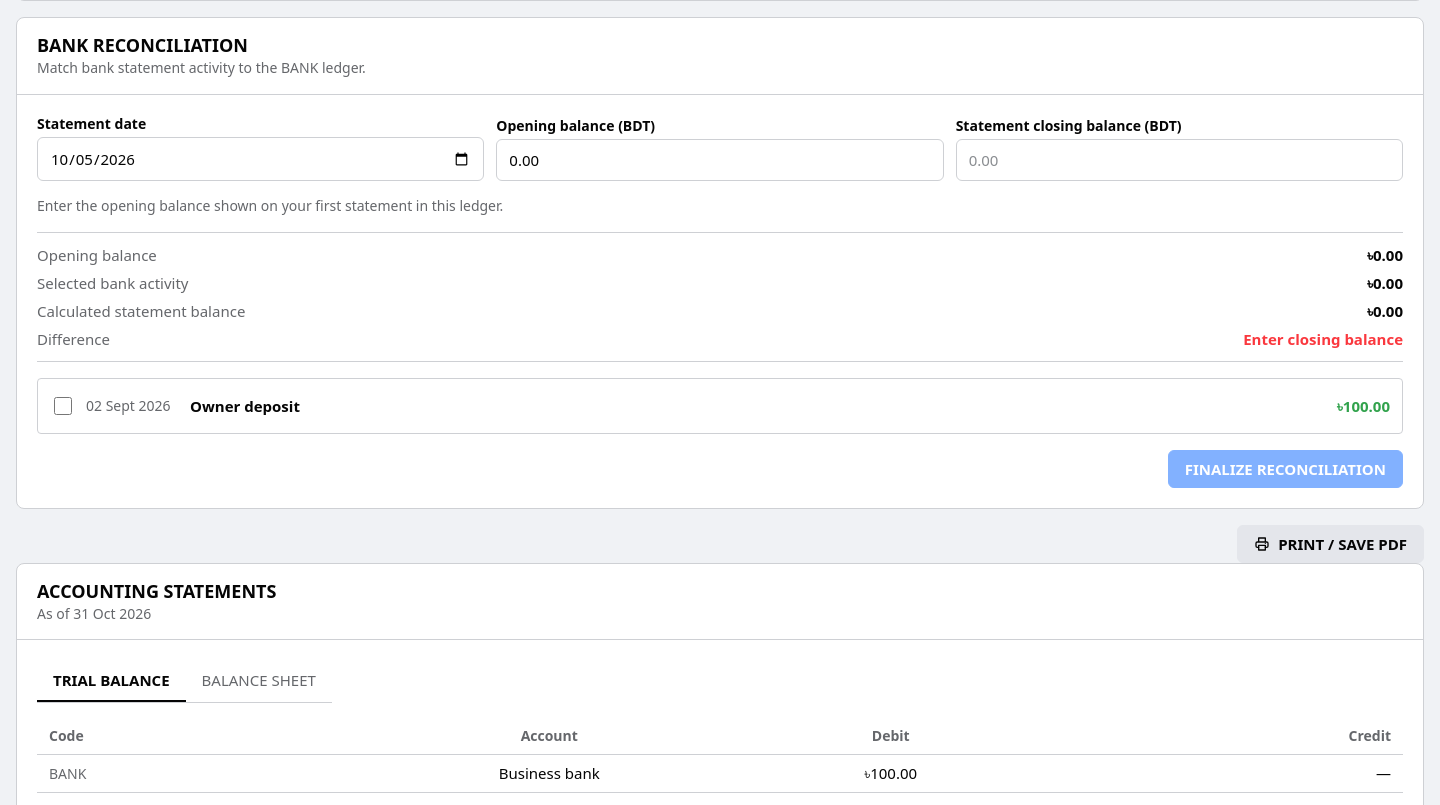
Test case: AccountsPage › finalizes a statement after selected bank activity matches the closing balance
This screenshot has width=1440, height=805.
(page scrolled)
Click the checkbox labelled "02 Sept 2026 Owner deposit ৳100.00" at {"x": 63, "y": 406}, box x1=54 y1=397 x2=72 y2=415
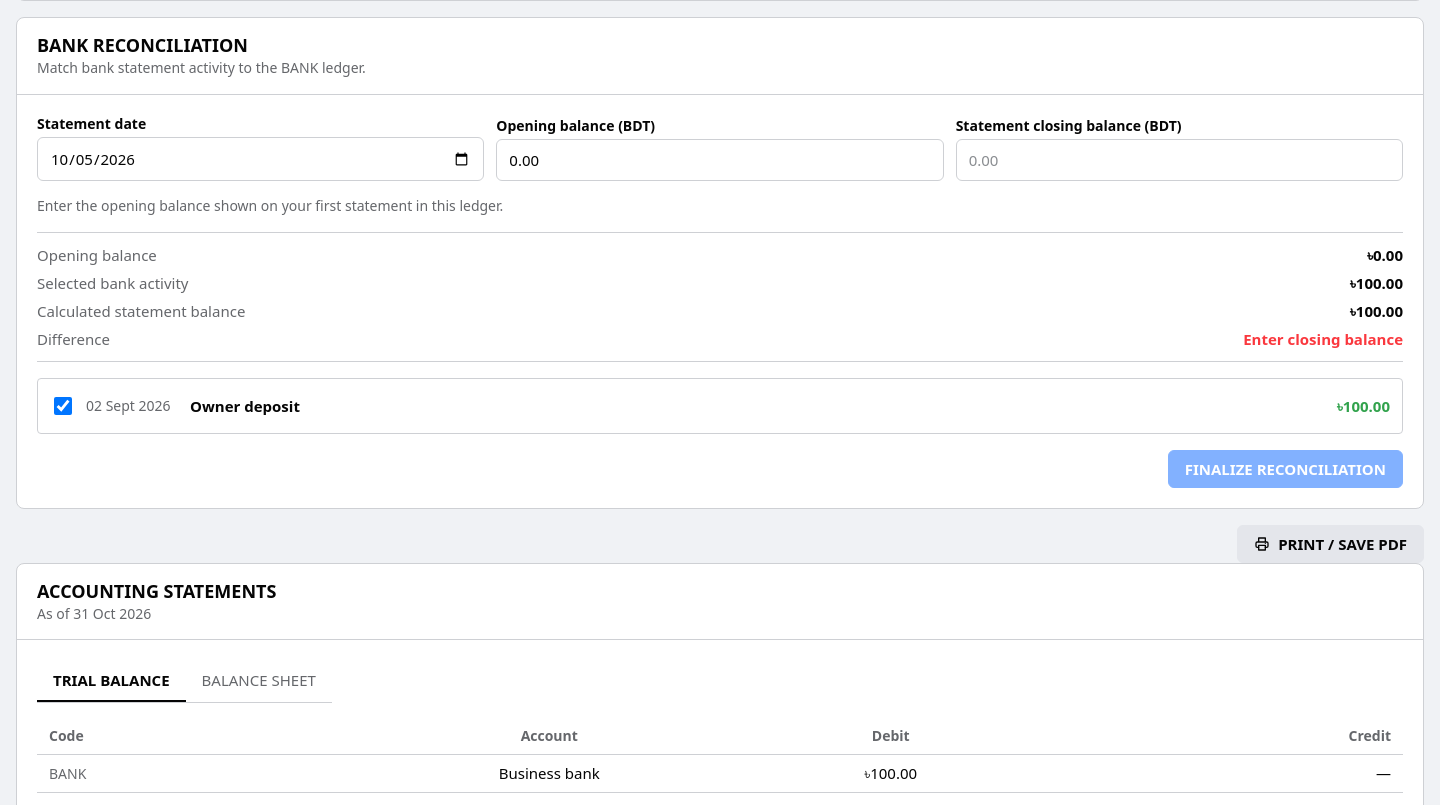
Type "100.00" into the field labelled "Statement closing balance (BDT)" at {"x": 1179, "y": 160}, box x1=956 y1=139 x2=1403 y2=181
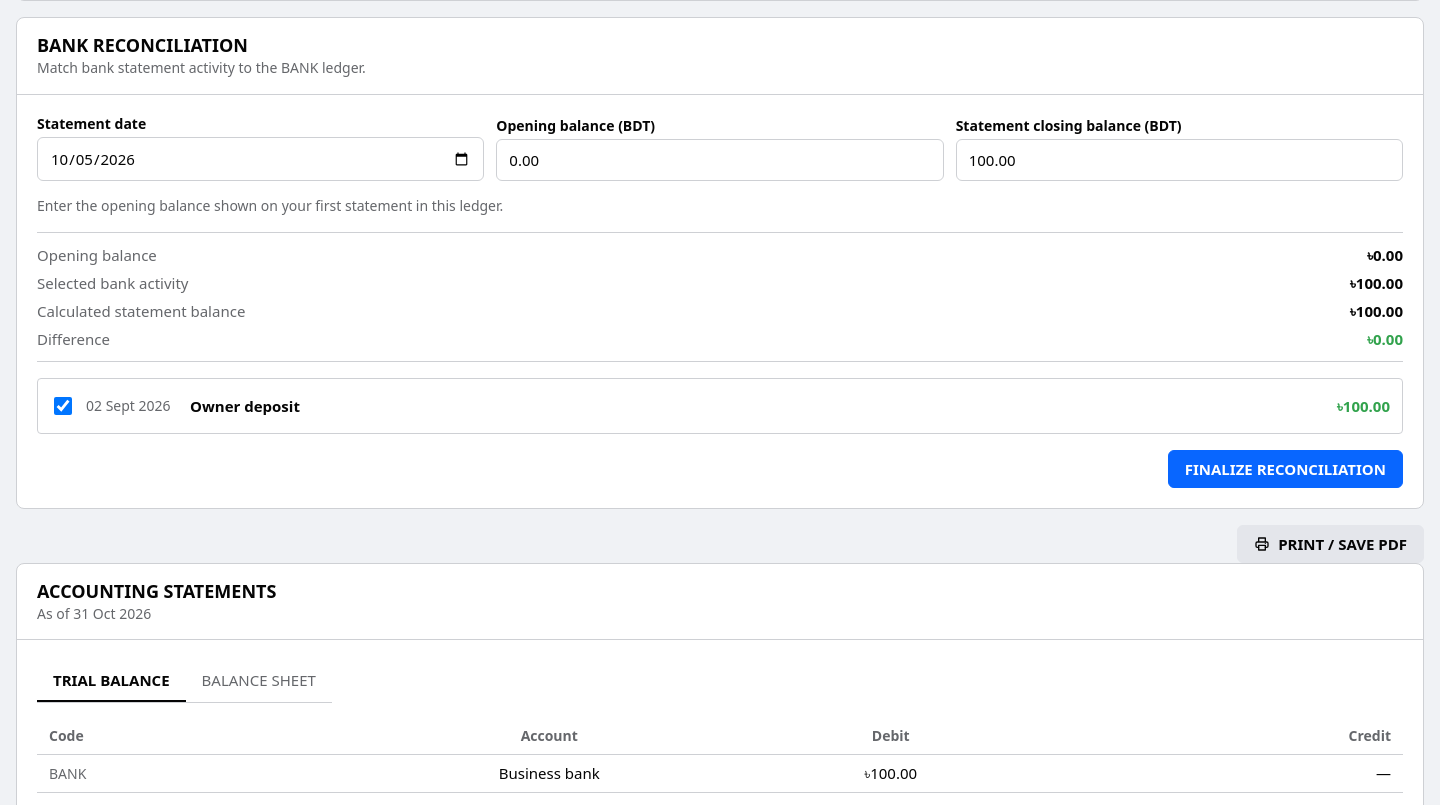
Now the button "Finalize reconciliation" is enabled
Click the button "Finalize reconciliation" at {"x": 1285, "y": 469}, box x1=1168 y1=450 x2=1403 y2=488
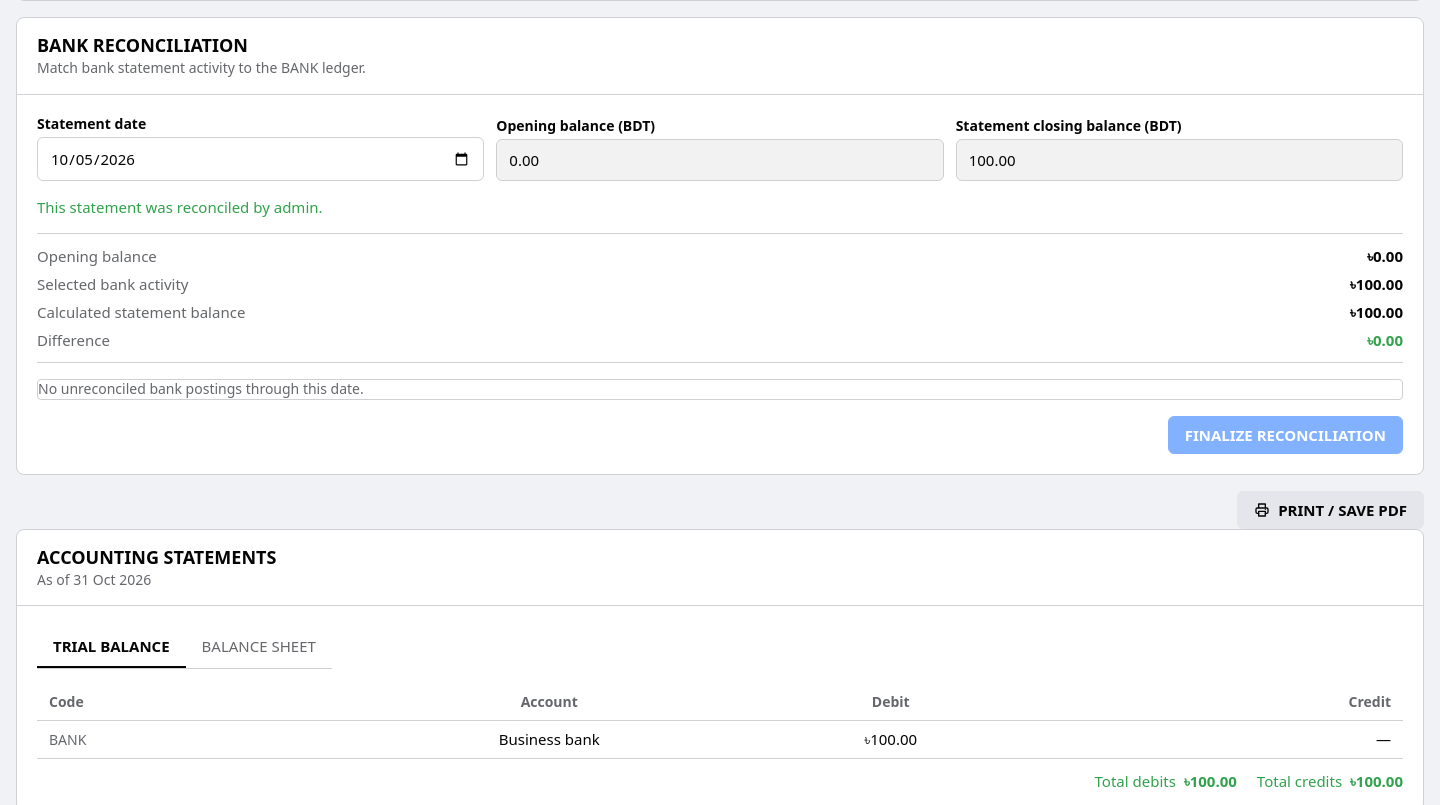
Now the text "This statement was reconciled by admin." is shown, box x1=37 y1=197 x2=323 y2=217
Now the button "Finalize reconciliation" is disabled, box x1=1168 y1=416 x2=1403 y2=454
